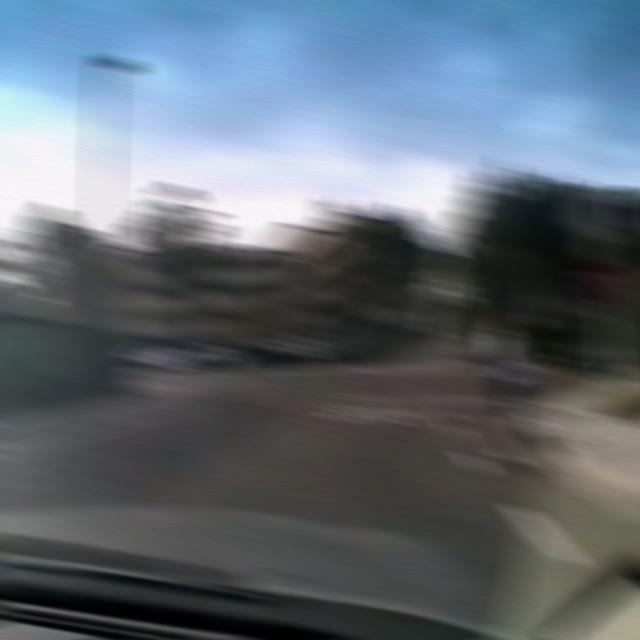stop_sign: (582, 256, 629, 309)
